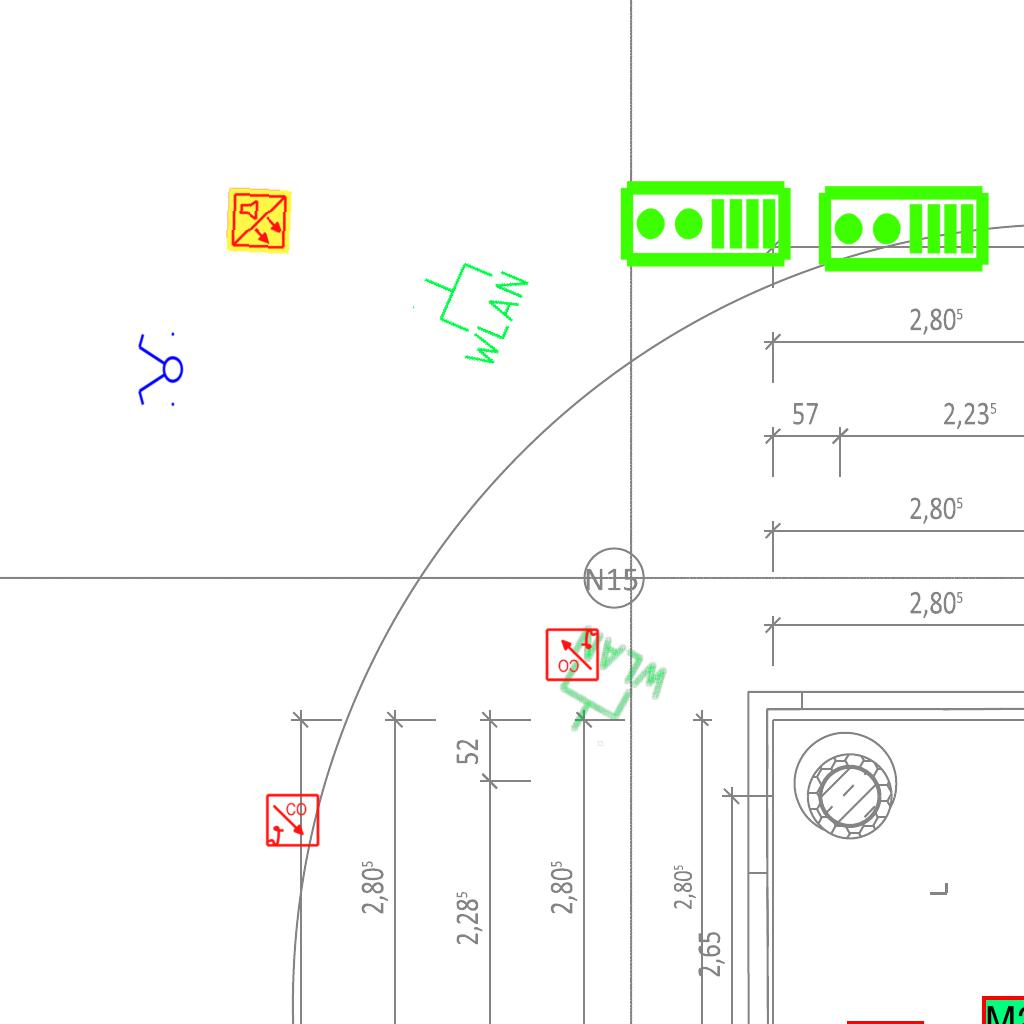Gegensprechanlage_mit_Video: (617, 178, 793, 273), (815, 183, 991, 278)
OKW_Multisensormelder_(Kombination_optischer_Rauch-Kahlenmonoxid_Waerme-Melder): (224, 186, 294, 256)
ROA_Rauchmelder_optisch_mit_Signalgeber_(Sockelsirene): (265, 793, 321, 849), (544, 626, 600, 682)
Serienschalter: (136, 328, 184, 412)
WLAN: (534, 620, 678, 763), (397, 238, 535, 377)
